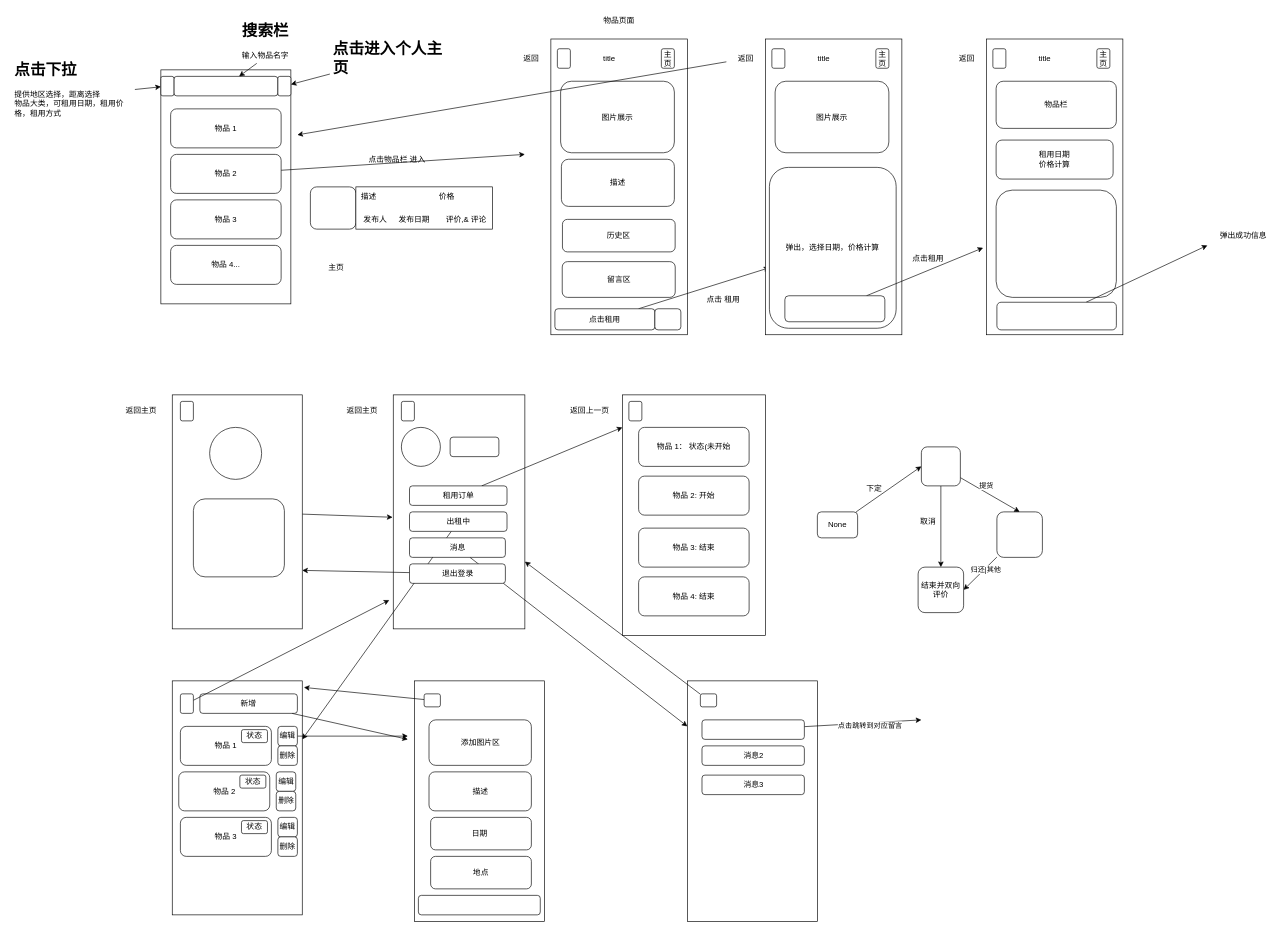
The diagram is 1286 pixels wide and 933 high, and some of its shapes have lost their labels. The centre of each missing label's shape, as x and y in pixels:
name: the point at 474,446
主图: the point at 333,207
交易方式 用户联系信息: the point at 1055,243
保存/发布: the point at 479,905
头像: the point at 420,446
开始: the point at 1019,534
未开始: the point at 940,466
消息1: the point at 752,729
留言: the point at 667,319
登录界面: the point at 238,537
确认: the point at 1056,316
租用: the point at 834,308
